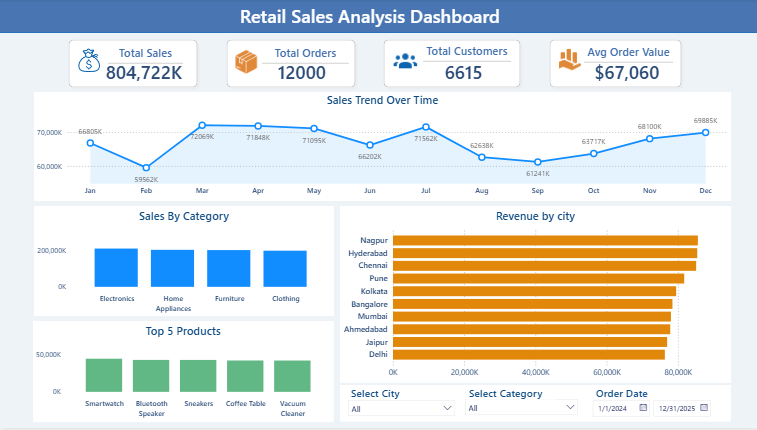

The dashboard page shown, as its layout file describes it:
{"tool":"powerbi","page":{"name":"Dashboard","canvas":[1280,720],"ordinal":0},"visuals":[{"type":"shape","box":[919.1,62.1,233.5,92.4],"z":0,"group":"g4"},{"type":"shape","box":[110.5,62.2,228.5,92.4],"z":0,"group":"g1"},{"type":"shape","box":[375.5,62.3,228.5,92.4],"z":0,"group":"g2"},{"type":"shape","box":[640.6,62.3,241.9,92.4],"z":0,"group":"g3"},{"type":"shape","box":[573.2,648.5,656.7,61.9],"z":0},{"type":"textbox","title":"Order Date","box":[997.3,649.5,99.4,22.1],"z":0,"group":"g5"},{"type":"slicer","fields":{"Values":["retail_sales.product_category"]},"box":[778.4,668,200,37.5],"z":0,"group":"g7"},{"type":"slicer","fields":{"Values":["retail_sales.city"]},"box":[581.4,668.7,190,35.8],"z":515,"group":"g6"},{"type":"textbox","title":"Select City","box":[587,649.5,100.9,22.4],"z":521,"group":"g6"},{"type":"shape","title":"Retail Sales Analysis Dashboard","box":[0,0,1280,57.1],"z":1000},{"type":"card","title":"Total sales","fields":{"Values":["retail_sales.avg order_value"]},"box":[979.2,100.4,151.1,43.6],"z":1000,"group":"g4"},{"type":"card","title":"Total sales","fields":{"Values":["retail_sales.Total sales"]},"box":[169.3,100.5,147.8,43.6],"z":1000,"group":"g1"},{"type":"card","title":"Total sales","fields":{"Values":["retail_sales.total orders"]},"box":[434.3,100.6,147.8,43.6],"z":1000,"group":"g2"},{"type":"card","title":"Total sales","fields":{"Values":["retail_sales.total customers"]},"box":[702.9,100.6,156.5,43.6],"z":1000,"group":"g3"},{"type":"textbox","title":"Select Category","box":[785.1,650.5,153.3,23.3],"z":1000,"group":"g7"},{"type":"slicer","fields":{"Values":["retail_sales.order_date"]},"box":[988.7,667.7,228.3,35.2],"z":1000,"group":"g5"},{"type":"textbox","title":"Retail Sales Analysis Dashboard","box":[393.1,6.7,460.3,50.4],"z":2000},{"type":"image","box":[927.4,82.1,61.7,43.3],"z":2000,"group":"g4"},{"type":"image","box":[120.6,83.1,60.5,43.2],"z":2000,"group":"g1"},{"type":"image","box":[650.7,83.2,65.5,43.2],"z":2000,"group":"g3"},{"type":"image","box":[383.9,84.7,60.5,43.2],"z":2000,"group":"g2"},{"type":"group","id":"g1","title":"Group 1","box":[110.5,62.2,228.5,92.4],"z":3000},{"type":"textbox","title":"Total Customers","box":[712.8,74.1,147.8,33.6],"z":3000,"group":"g3"},{"type":"textbox","title":"Avg Order Value","box":[982.9,75.5,149.5,33.6],"z":3000,"group":"g4"},{"type":"textbox","title":"Total Sales","box":[182.7,76.7,126,31.7],"z":3000,"group":"g1"},{"type":"textbox","title":"Total Orders","box":[441,77.2,146.1,32.8],"z":3000,"group":"g2"},{"type":"group","id":"g2","title":"Group 1","box":[375.5,62.3,228.5,92.4],"z":4000},{"type":"group","id":"g3","title":"Group 1","box":[640.6,62.3,241.9,92.4],"z":5000},{"type":"group","id":"g4","title":"Group 1","box":[919.1,62.1,233.5,92.4],"z":6000},{"type":"lineChart","title":"Sales Trend Over Time","fields":{"Y":["retail_sales.Total sales"],"Category":["retail_sales.month_short"]},"box":[58.8,156.2,1170.8,183.1],"z":7000},{"type":"clusteredColumnChart","title":"Sales By Category","fields":{"Category":["retail_sales.product_category"],"Y":["retail_sales.Total sales"]},"box":[58.8,347.7,503.9,184.8],"z":8000},{"type":"clusteredColumnChart","title":"Top 5 Products","fields":{"Category":["retail_sales.product_name"],"Y":["retail_sales.Total sales"]},"box":[56.7,541.7,505,170],"z":9000},{"type":"clusteredBarChart","title":"Revenue by city","fields":{"Category":["retail_sales.city"],"Y":["retail_sales.Total sales"]},"box":[573.2,348.5,656.7,296.9],"z":10000},{"type":"group","id":"g5","title":"Group 2","box":[988.7,649.5,228.3,53.3],"z":11000},{"type":"group","id":"g6","title":"Group 3","box":[581.4,649.5,190,55],"z":12000},{"type":"group","id":"g7","title":"Group 4","box":[778.4,650.5,200,55],"z":13000}]}

Visuals, with their boxes in screenshot pixels (x1, y1, x2, y2), scaled from the page's 1280x720 canvas onto the 757x430 screenshot:
shape: crop(544, 37, 682, 92)
shape: crop(65, 37, 200, 92)
shape: crop(222, 37, 357, 92)
shape: crop(379, 37, 522, 92)
shape: crop(339, 387, 727, 424)
"Order Date" textbox: crop(590, 388, 649, 401)
slicer - retail_sales.product_category: crop(460, 399, 579, 421)
slicer - retail_sales.city: crop(344, 399, 456, 421)
"Select City" textbox: crop(347, 388, 407, 401)
"Retail Sales Analysis Dashboard" shape: crop(0, 0, 756, 34)
"Total sales" card: crop(579, 60, 668, 86)
"Total sales" card: crop(100, 60, 188, 86)
"Total sales" card: crop(257, 60, 344, 86)
"Total sales" card: crop(416, 60, 508, 86)
"Select Category" textbox: crop(464, 388, 555, 402)
slicer - retail_sales.order_date: crop(585, 399, 720, 420)
"Retail Sales Analysis Dashboard" textbox: crop(232, 4, 505, 34)
image: crop(548, 49, 585, 75)
image: crop(71, 50, 107, 75)
image: crop(385, 50, 424, 75)
image: crop(227, 51, 263, 76)
"Group 1" group: crop(65, 37, 200, 92)
"Total Customers" textbox: crop(422, 44, 509, 64)
"Avg Order Value" textbox: crop(581, 45, 670, 65)
"Total Sales" textbox: crop(108, 46, 183, 65)
"Total Orders" textbox: crop(261, 46, 347, 66)
"Group 1" group: crop(222, 37, 357, 92)
"Group 1" group: crop(379, 37, 522, 92)
"Group 1" group: crop(544, 37, 682, 92)
"Sales Trend Over Time" lineChart: crop(35, 93, 727, 203)
"Sales By Category" clusteredColumnChart: crop(35, 208, 333, 318)
"Top 5 Products" clusteredColumnChart: crop(34, 324, 332, 425)
"Revenue by city" clusteredBarChart: crop(339, 208, 727, 385)
"Group 2" group: crop(585, 388, 720, 420)
"Group 3" group: crop(344, 388, 456, 421)
"Group 4" group: crop(460, 388, 579, 421)
